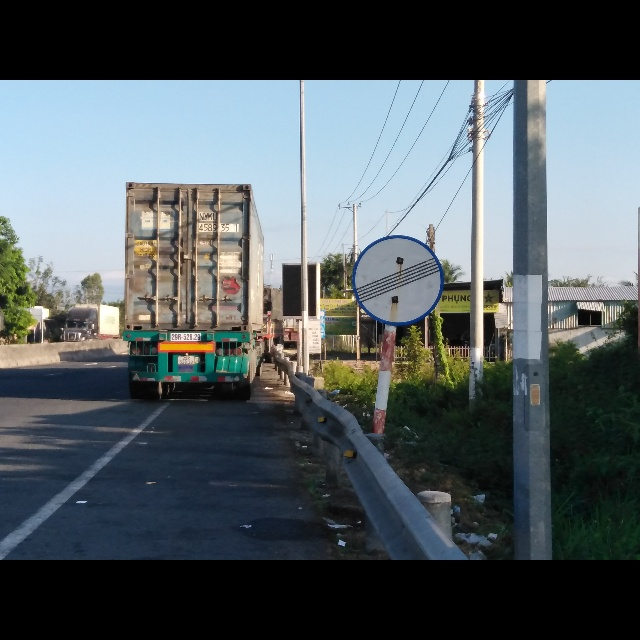Hết tất cả các lệnh cấm: (347, 231, 447, 327)
